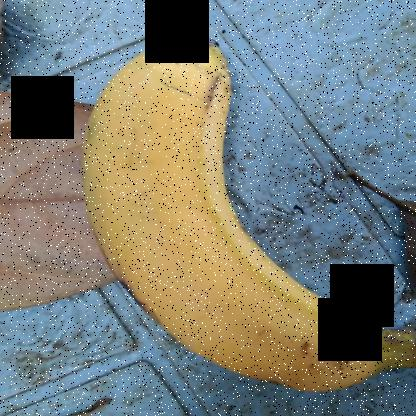freshripe: (80, 39, 414, 415)
